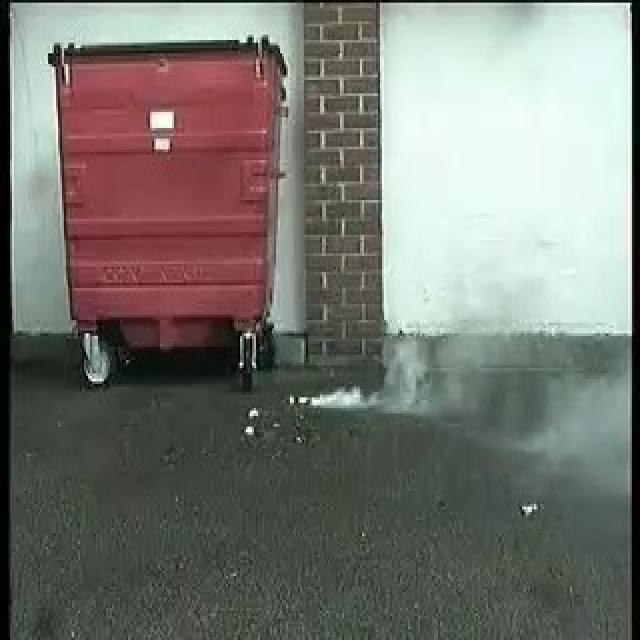Smoke: (312, 329, 468, 422)
